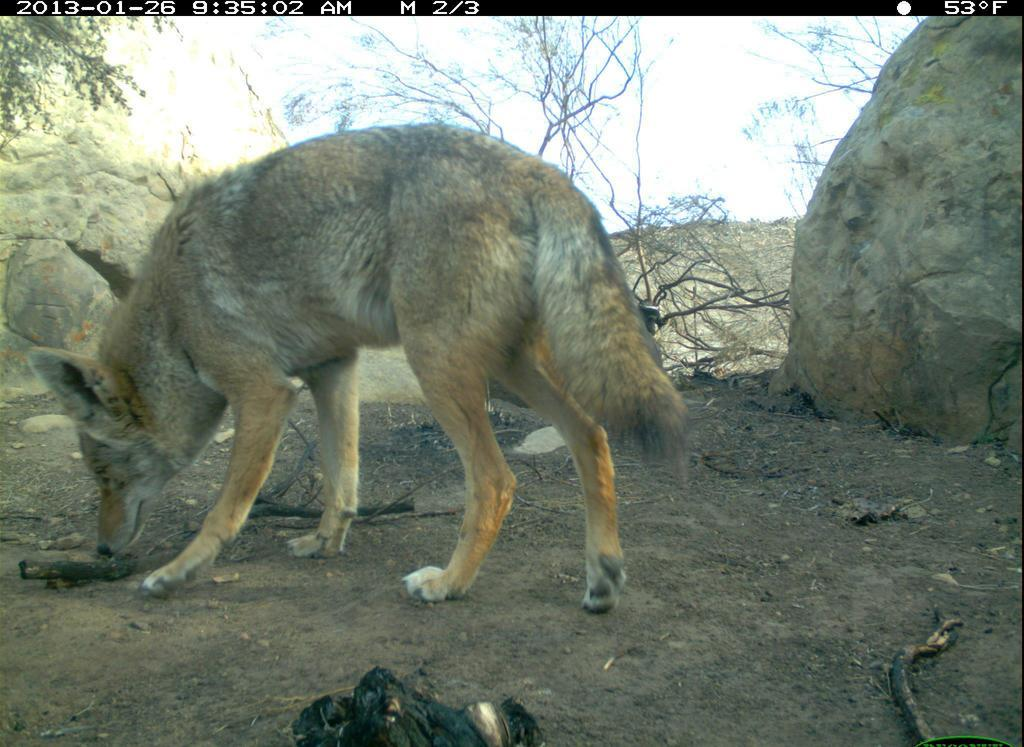coyote: (27, 125, 694, 623)
